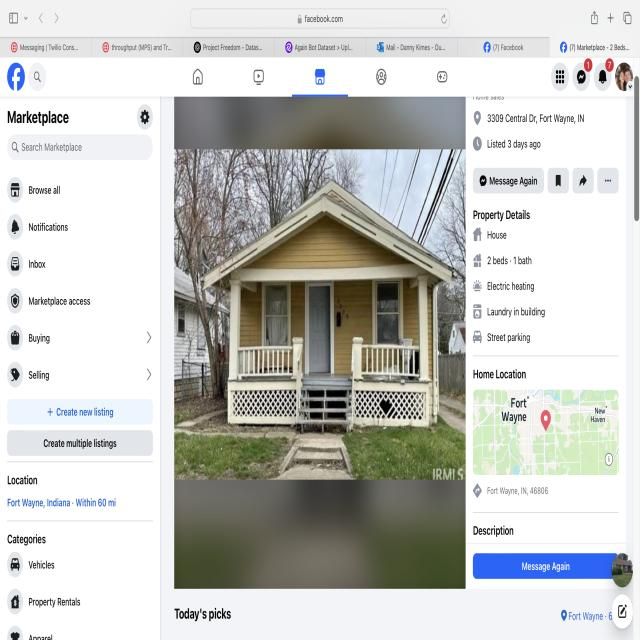message_button: (475, 551, 618, 577)
